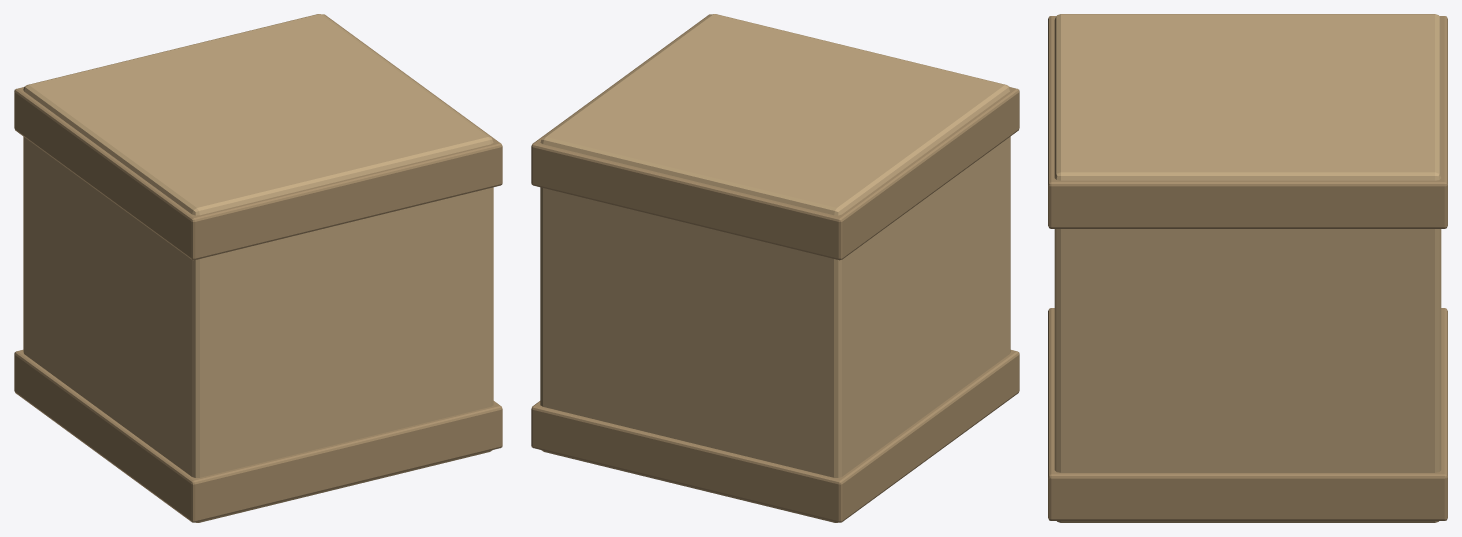
File: crate.glb
3 renders of one model, left to right at view 1: azimuth 30°, elevation 25°; view 2: azimuth 150°, elevation 25°; view 3: azimuth 270°, elevation 25°, orthographic. The views are drawn at different scales.
Visible parts, largest first — view 1: crate; view 2: crate; view 3: crate.
Boxes of the visible parts, box(x1,y1,x2,y2) form: crate: box(14, 14, 502, 522); crate: box(531, 14, 1019, 522); crate: box(1048, 14, 1447, 522).
Bounding box in the file's own units: 0.62 × 0.6 × 0.62.
